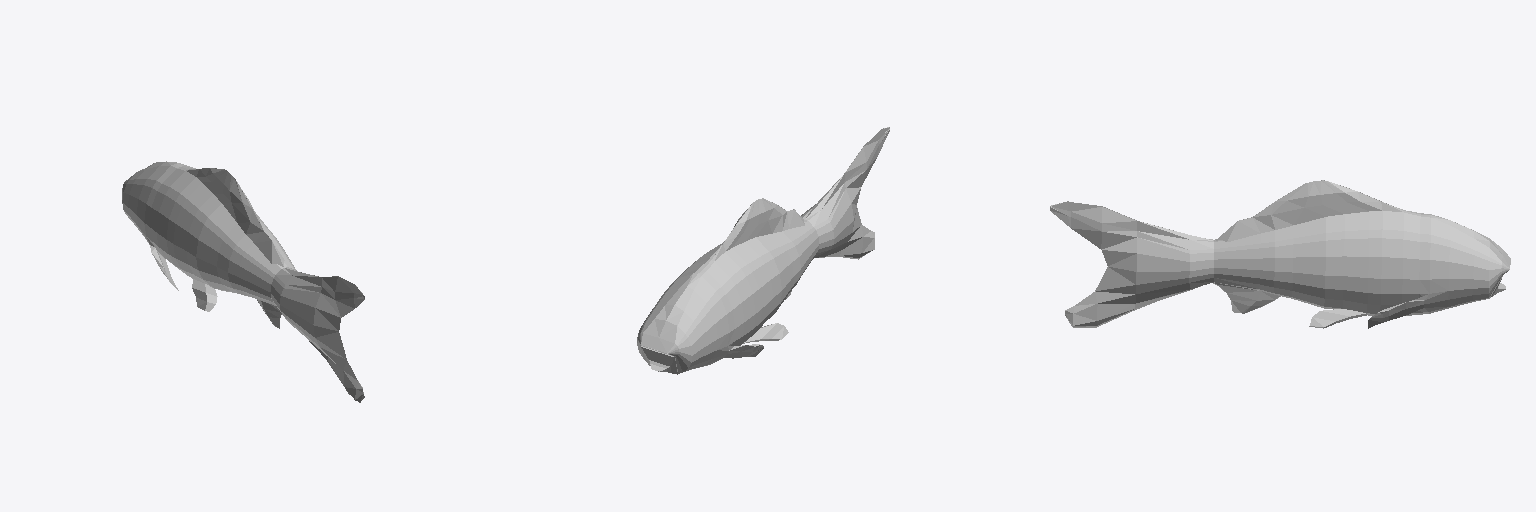
Rendered from fish.obj.
3 views of the same model, side by side, from view 1: azimuth 30°, elevation 25°; view 2: azimuth 150°, elevation 25°; view 3: azimuth 270°, elevation 25° (orthographic).
Parts seen in each view (by area): view 1: Circle_Circle.001; view 2: Circle_Circle.001; view 3: Circle_Circle.001.
Part boxes in pixels (x1,y1,x2,y2): Circle_Circle.001: (122, 161, 364, 402); Circle_Circle.001: (637, 127, 889, 374); Circle_Circle.001: (1050, 180, 1510, 328).
Size of the model in its own units: 1.44 by 2.33 by 6.78.